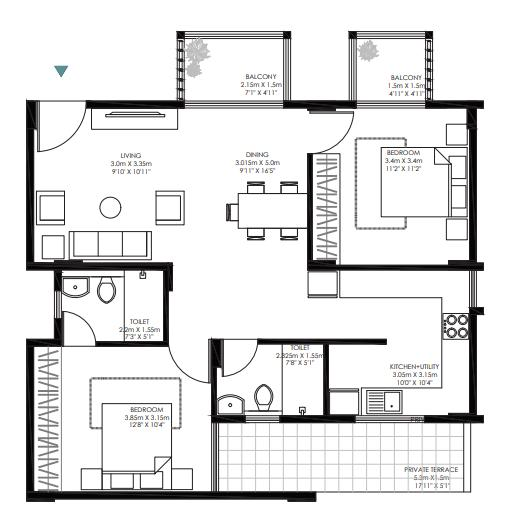Balcony: (182, 34, 286, 102), (357, 30, 427, 103)
Bed: (380, 146, 467, 221), (98, 405, 170, 493)
Bedroom: (32, 345, 213, 492), (309, 111, 469, 269)
Dining Room: (190, 104, 308, 272)
Dining table: (219, 177, 312, 247)
Living Room: (28, 100, 191, 265)
Sofa: (71, 228, 148, 264), (36, 189, 67, 221), (157, 192, 183, 225)
Terrace: (214, 425, 463, 490)
Wardrobe: (36, 344, 61, 495), (311, 154, 341, 262)
commode: (98, 274, 116, 303), (256, 384, 273, 412)
door: (298, 102, 356, 159), (39, 99, 92, 154), (219, 335, 261, 377), (170, 345, 210, 385), (67, 310, 98, 349)
kitchen-slab: (441, 271, 470, 414), (339, 272, 469, 297), (361, 390, 468, 412)
sink: (363, 388, 403, 416), (217, 394, 247, 415), (63, 278, 91, 297)
stove: (440, 312, 470, 342)
toilet: (215, 340, 327, 418), (62, 271, 162, 344)
tv: (89, 107, 180, 131)
